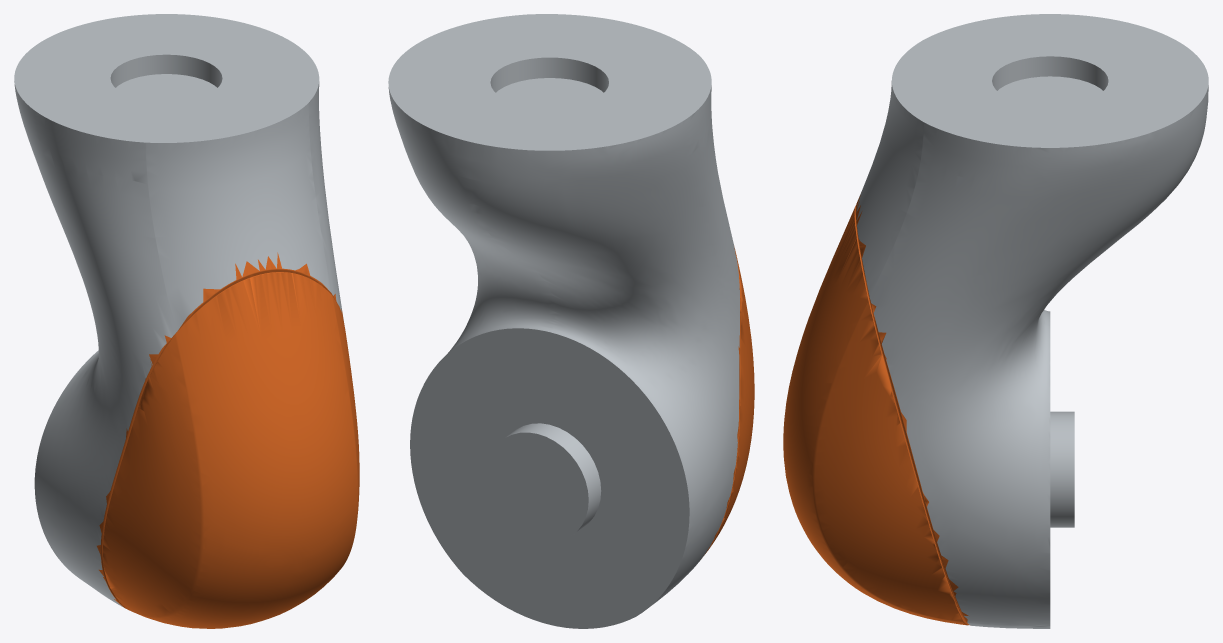
3 views of the same model, side by side, from view 1: azimuth 30°, elevation 25°; view 2: azimuth 150°, elevation 25°; view 3: azimuth 270°, elevation 25° (orthographic). The views are drawn at different scales.
Visible parts, largest first — view 1: world; view 2: world; view 3: world.
Part boxes in pixels (x1=…): world: x1=14, y1=14, x2=359, y2=628; world: x1=388, y1=14, x2=754, y2=628; world: x1=783, y1=14, x2=1208, y2=628.
Bounding box in the file's own units: 0.136 × 0.252 × 0.1826.
